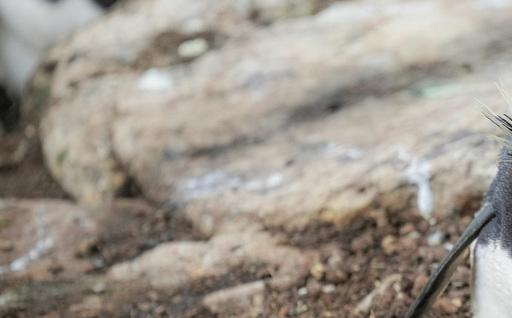Southern Rockhopper Penguin: (355, 61, 512, 318)
